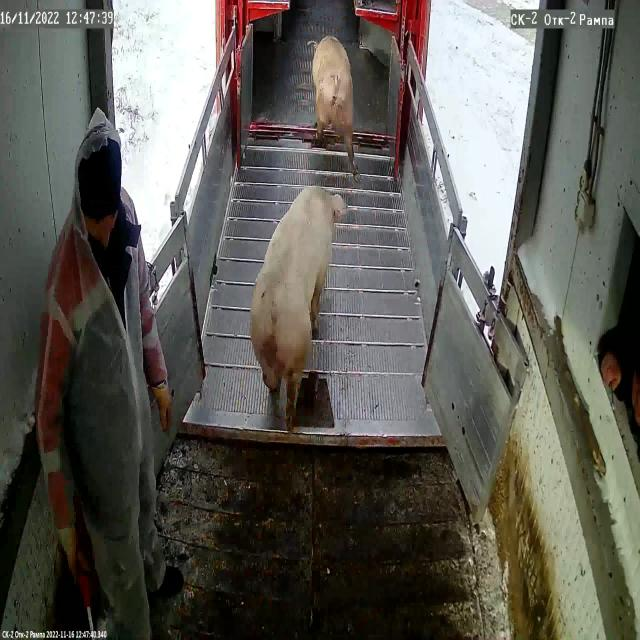pig: (251, 186, 344, 391), (312, 36, 354, 169)
